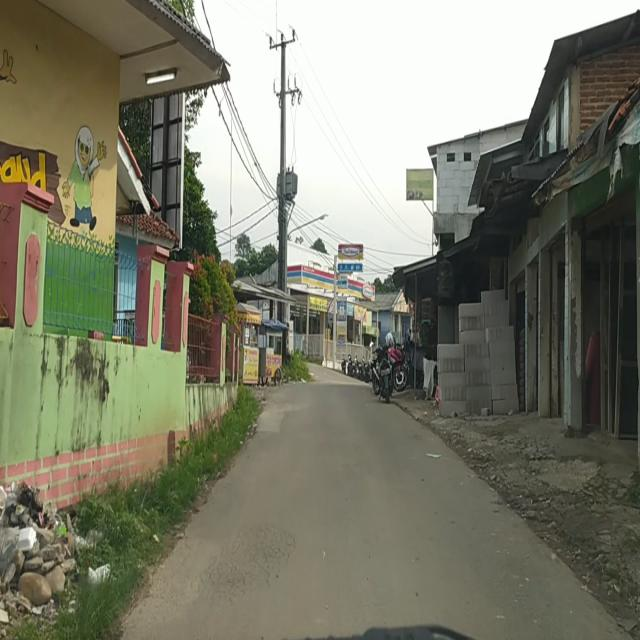Drain Hole: (168, 522, 299, 604)
